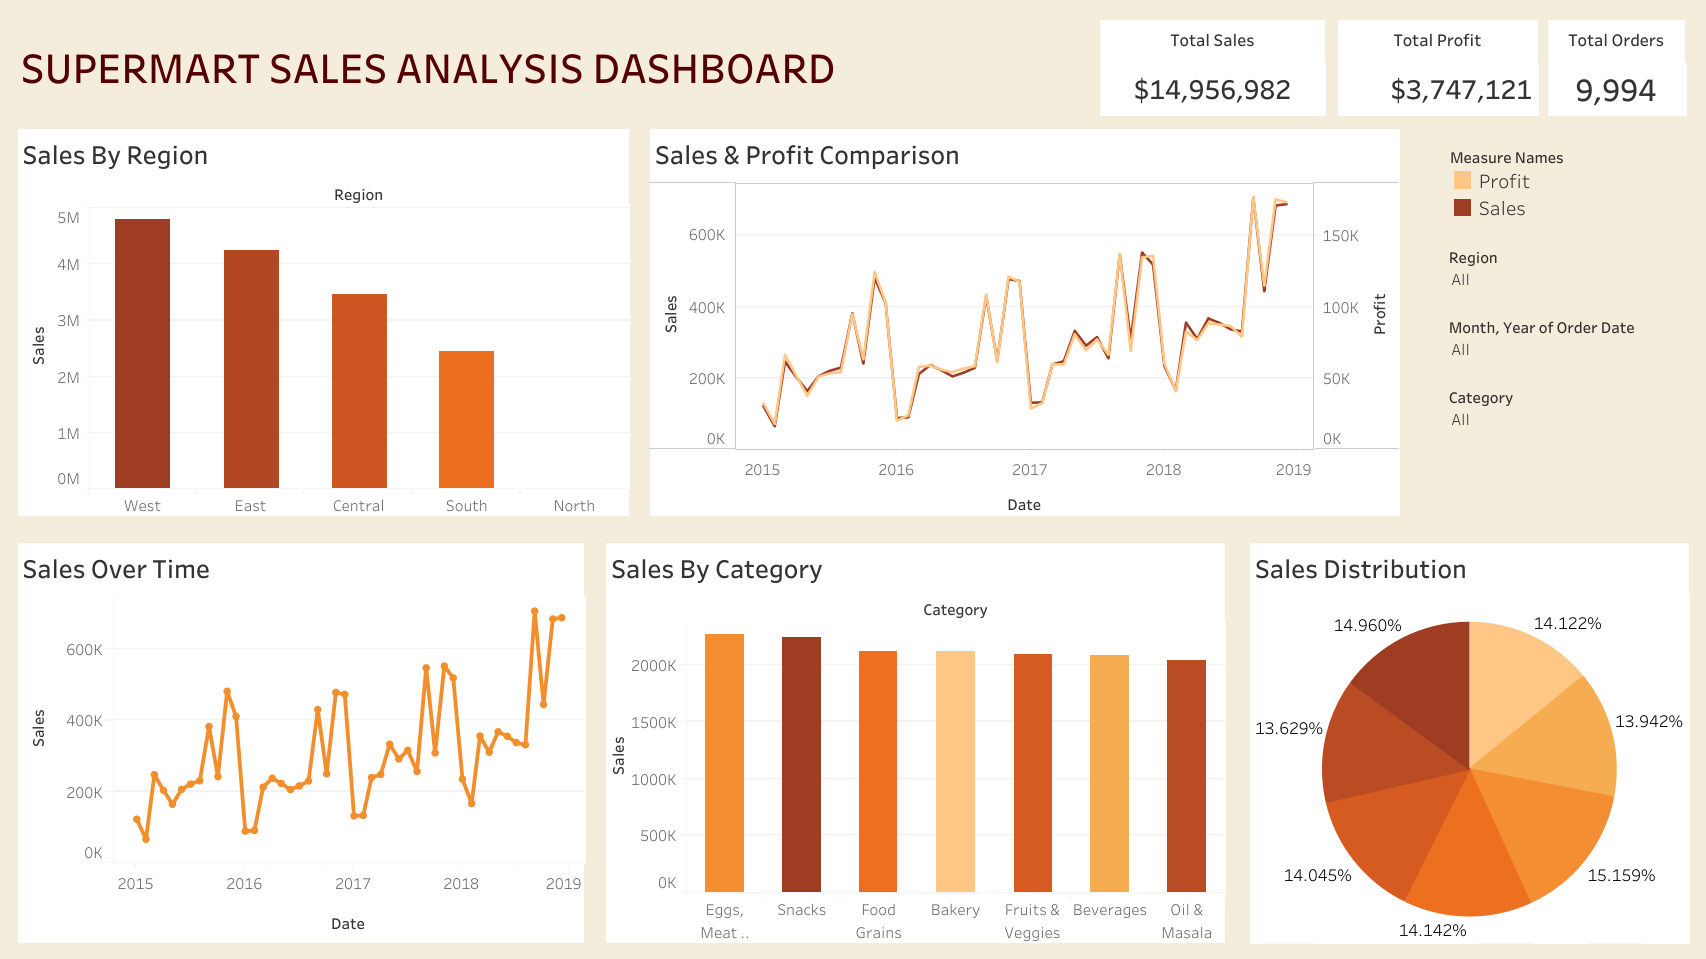

The dashboard page shown, as its layout file describes it:
{"tool":"tableau","page":{"name":"Dashboard 1","canvas":[1366,768],"ordinal":0},"visuals":[{"type":"text","box":[14,16,832,73]},{"type":"worksheet","title":"KPI1","mark":"Automatic","box":[880,16,180,75]},{"type":"worksheet","title":"KPI2","mark":"Automatic","box":[1070,16,160,75]},{"type":"worksheet","title":"KPI3","mark":"Automatic","box":[1238,16,110,75]},{"type":"worksheet","title":"SalesByRegion","mark":"Automatic","rows":["Sales"],"cols":["Region"],"box":[14,103,489,310]},{"type":"worksheet","title":"SalesProfitComparison","mark":"Automatic","rows":["Sales","Profit"],"cols":["Order Date"],"box":[520,103,600,310]},{"type":"legend","title":"SalesProfitComparison","param":"[federated.01osgek0y7h0nr19sojn606pd4og].[:Measure Names]","box":[1155,110,192,81]},{"type":"filter","title":"SalesByRegion","param":"[federated.01osgek0y7h0nr19sojn606pd4og].[none:Region:nk]","box":[1155,191,192,61]},{"type":"filter","title":"SalesOverTime","param":"[federated.01osgek0y7h0nr19sojn606pd4og].[my:Order Date:ok]","box":[1155,252,192,61]},{"type":"filter","title":"SalesDistribution","param":"[federated.01osgek0y7h0nr19sojn606pd4og].[none:Category:nk]","box":[1155,313,192,61]},{"type":"worksheet","title":"SalesOverTime","mark":"Line","rows":["Sales"],"cols":["Order Date"],"box":[14,434,453,320]},{"type":"worksheet","title":"SalesByCategory","mark":"Bar","rows":["Sales"],"cols":["Category"],"box":[485,434,495,320]},{"type":"worksheet","title":"SalesDistribution","mark":"Pie","box":[990,434,361,320]}]}

Visuals, with their boxes in screenshot pixels (x1, y1, x2, y2), scaled from the page's 1366x768 canvas onto the 1706x959 screenshot:
text: [17,20,1057,111]
"KPI1" worksheet: [1099,20,1324,114]
"KPI2" worksheet: [1336,20,1536,114]
"KPI3" worksheet: [1546,20,1684,114]
"SalesByRegion" worksheet: [17,129,628,516]
"SalesProfitComparison" worksheet: [649,129,1399,516]
"SalesProfitComparison" legend: [1442,137,1682,239]
"SalesByRegion" filter: [1442,239,1682,315]
"SalesOverTime" filter: [1442,315,1682,391]
"SalesDistribution" filter: [1442,391,1682,467]
"SalesOverTime" worksheet (Line marks): [17,542,583,942]
"SalesByCategory" worksheet (Bar marks): [606,542,1224,942]
"SalesDistribution" worksheet (Pie marks): [1236,542,1687,942]
